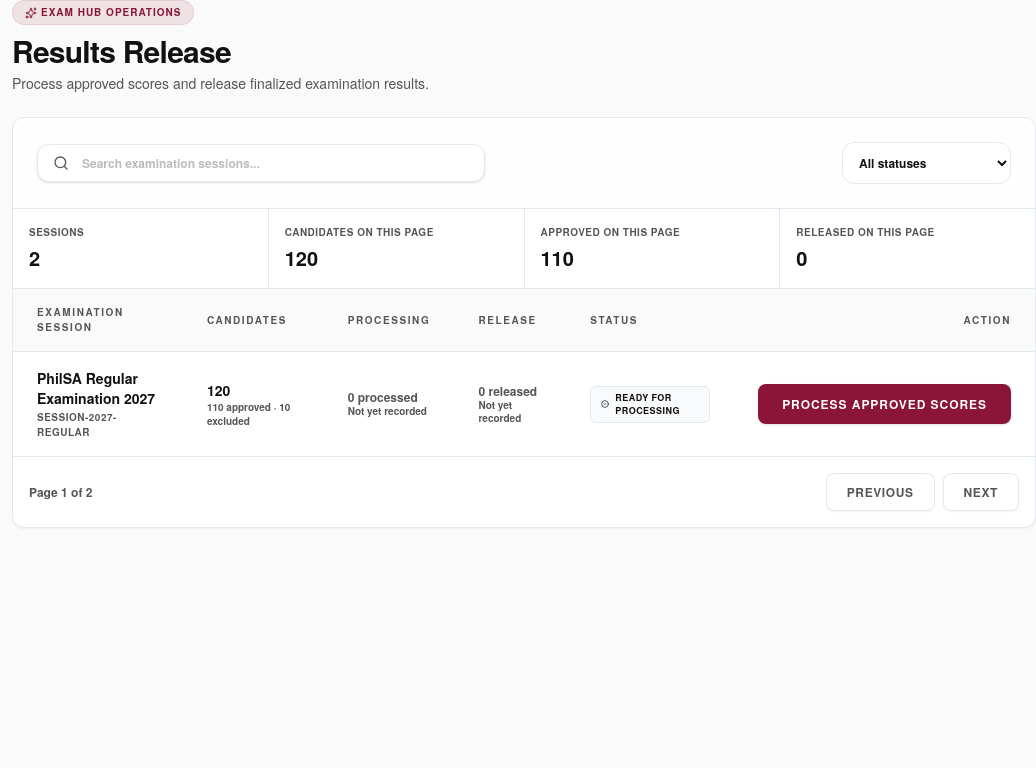
it: ResultsRelease › loads the requested page and updates pagination controls
The image size is (1036, 768).
Expected: the text "Page 1 of 2" is shown, left=29, top=484, right=92, bottom=500
Expected: the button "Previous" is disabled, left=826, top=473, right=935, bottom=511
Step 1. Click the button "Next" → [981, 492], box left=943, top=473, right=1019, bottom=511
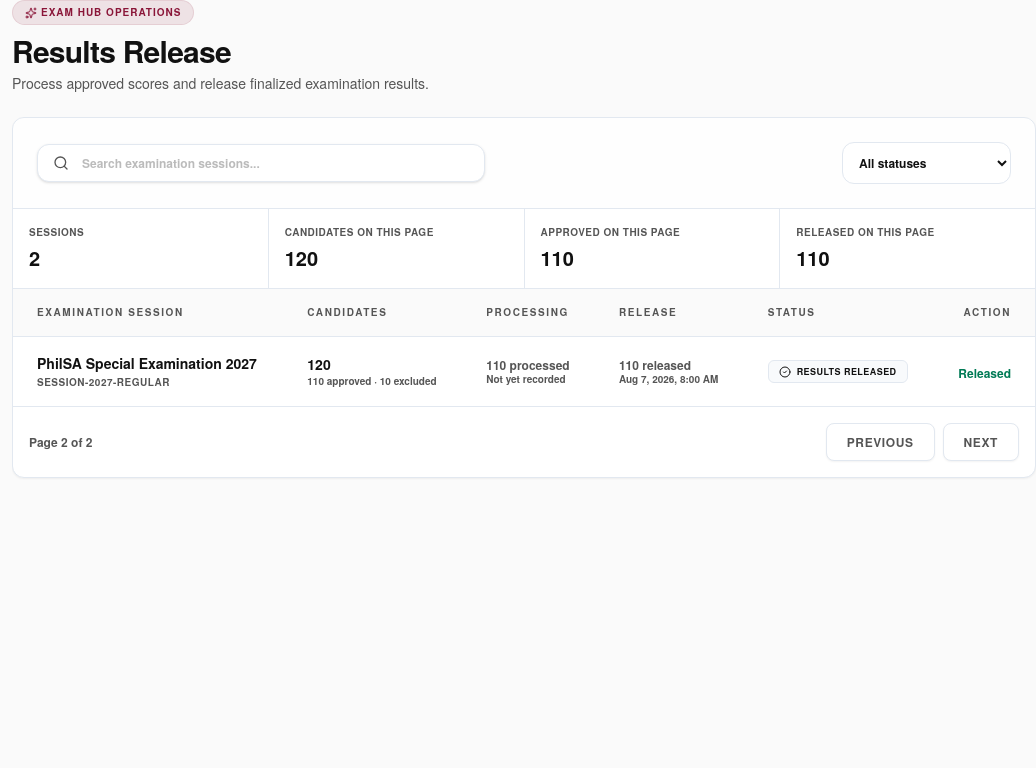
Expected: the text "PhilSA Special Examination 2027" is shown, left=37, top=353, right=259, bottom=373
Expected: the text "Page 2 of 2" is shown, left=29, top=434, right=92, bottom=450
Expected: the button "Previous" is enabled, left=826, top=423, right=935, bottom=461
